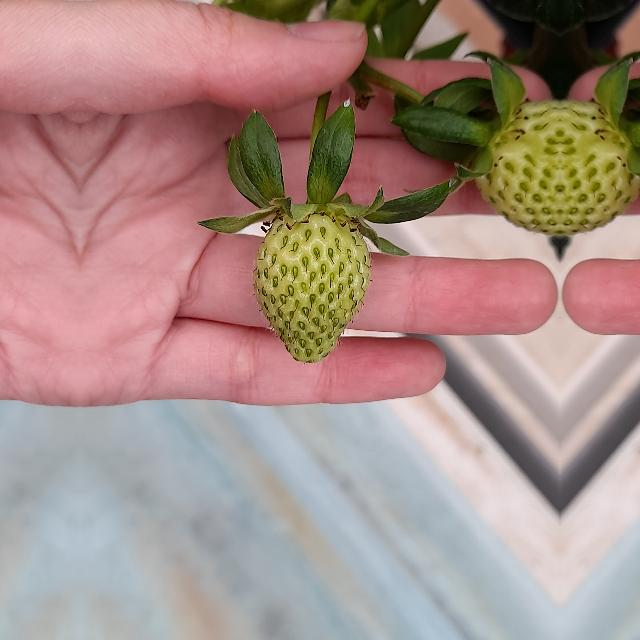Health_25: (252, 210, 370, 362), (477, 97, 559, 240), (561, 97, 640, 240)
